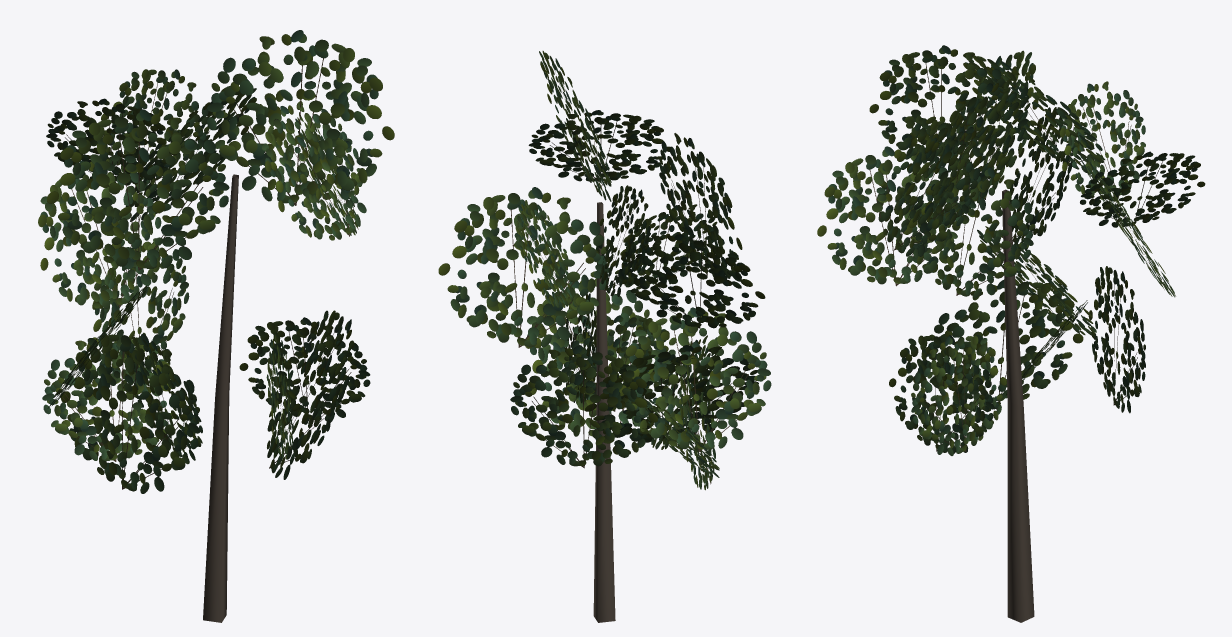
The model's file is tpl_bog_alder_lo0.glb.
3 renders of one model, left to right at view 1: azimuth 30°, elevation 25°; view 2: azimuth 150°, elevation 25°; view 3: azimuth 270°, elevation 25°, orthographic. The views are drawn at different scales.
Visible parts, largest first — view 1: tpl_bog_alder_lo0; view 2: tpl_bog_alder_lo0; view 3: tpl_bog_alder_lo0.
Boxes of the visible parts, bbox=[...] form: tpl_bog_alder_lo0: bbox=[38, 30, 394, 622]; tpl_bog_alder_lo0: bbox=[438, 51, 771, 622]; tpl_bog_alder_lo0: bbox=[817, 45, 1205, 622].
Size of the model in its own units: 9.57 by 16.15 by 10.32.
2 materials, 1 textured.
